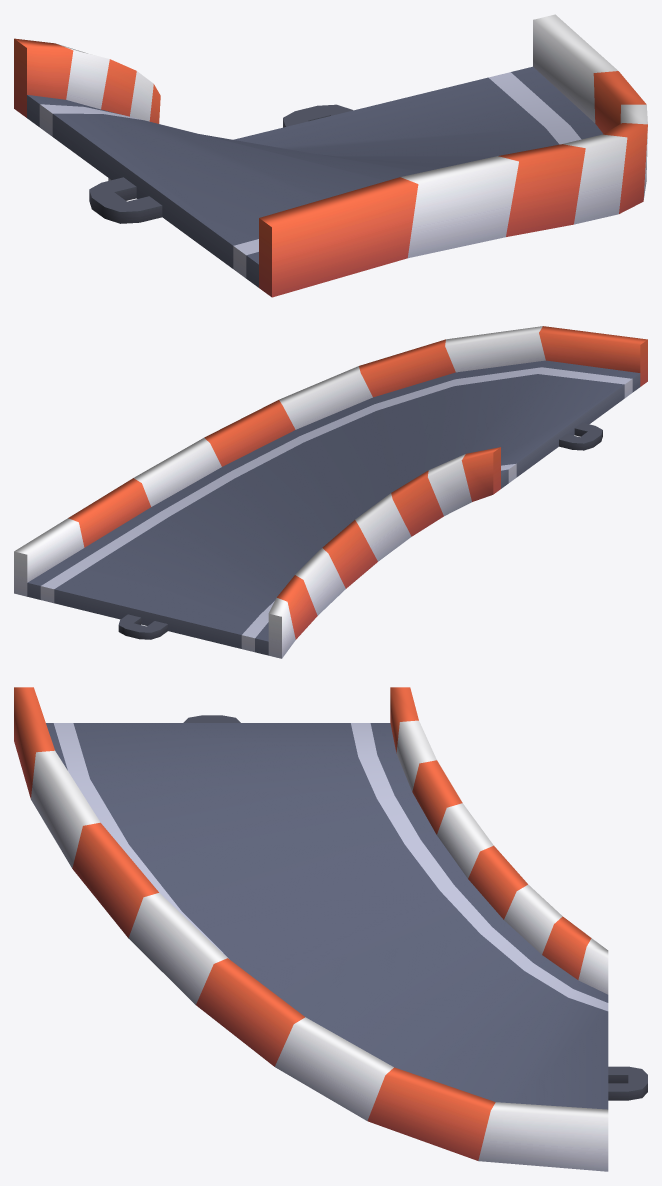
The model's file is track-road-wide-corner-small-ramp.glb.
3 renders of one model, top to bottom at view 1: azimuth 30°, elevation 25°; view 2: azimuth 150°, elevation 25°; view 3: azimuth 270°, elevation 25°, orthographic. The views are drawn at different scales.
Parts seen in each view (by area): view 1: track-road-wide-corner-small-ramp; view 2: track-road-wide-corner-small-ramp; view 3: track-road-wide-corner-small-ramp.
Part boxes in pixels (left/top/right/bottom): track-road-wide-corner-small-ramp: left=14, top=14, right=647, bottom=297; track-road-wide-corner-small-ramp: left=14, top=326, right=647, bottom=658; track-road-wide-corner-small-ramp: left=14, top=687, right=647, bottom=1171.
Bounding box in the file's own units: 3.2 × 1.3 × 3.2.
1 material, 1 textured.
